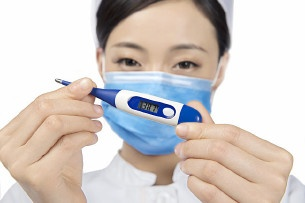Mask: (101, 35, 213, 147)
